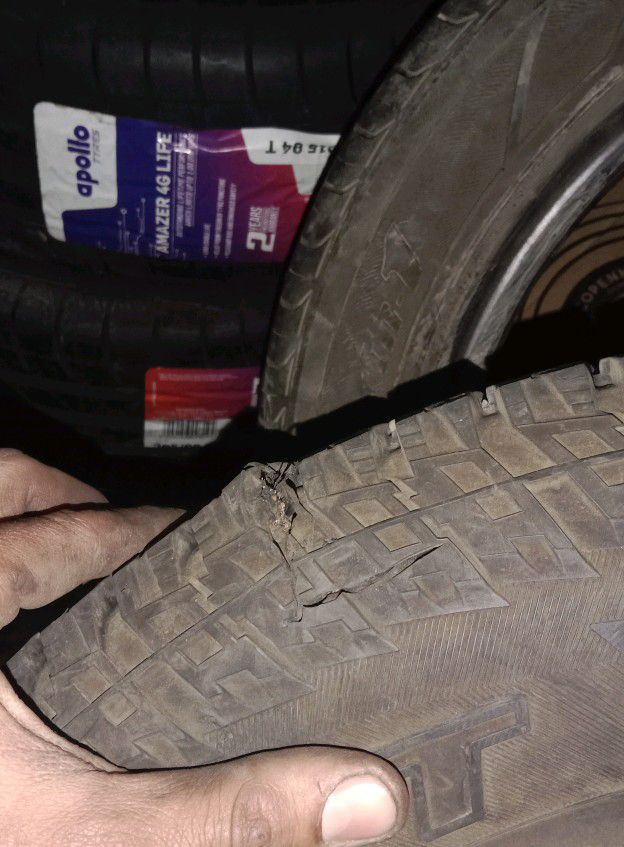tr: (248, 463, 444, 623)
